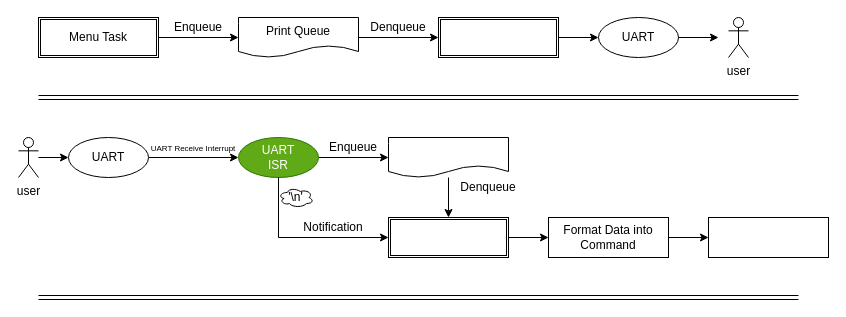
This 846x317 diagram has some shape labels left out. The shapes that lost their labels are listed below. From the top down, each one's box as (x1, y1, x2, y2) in pixels, then its label:
(438, 16, 558, 58): Print Task
(388, 136, 508, 178): Input Data Queue
(388, 216, 508, 258): Command Handel Task
(708, 216, 828, 258): Notifies the relevant Tasks
